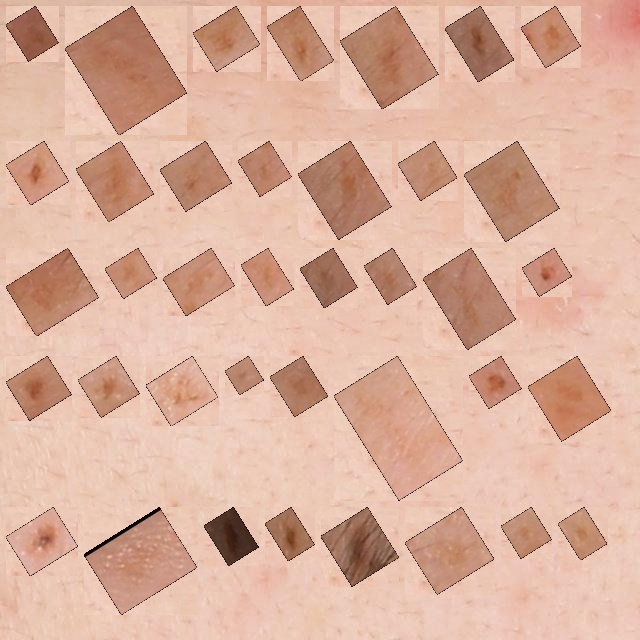melasma: (345, 367, 452, 489), (76, 17, 176, 124), (95, 518, 186, 603), (351, 17, 427, 98), (475, 152, 548, 230), (434, 259, 505, 338), (309, 152, 380, 228), (17, 259, 88, 325), (416, 518, 483, 583), (539, 367, 600, 430), (87, 152, 143, 211), (456, 17, 503, 71), (171, 152, 221, 200), (157, 367, 207, 415), (278, 17, 323, 70), (174, 259, 224, 304), (204, 17, 249, 60), (17, 367, 60, 409), (17, 152, 58, 194), (89, 367, 128, 406), (532, 17, 570, 57), (281, 367, 317, 406), (409, 152, 446, 189), (311, 259, 346, 297), (252, 259, 283, 295), (249, 152, 281, 185), (375, 259, 406, 293), (17, 17, 47, 50), (480, 367, 510, 397), (512, 518, 541, 547), (116, 259, 146, 287), (569, 518, 596, 549), (533, 259, 561, 285), (236, 367, 253, 384)
nevus: (332, 518, 388, 575), (17, 518, 67, 565), (215, 518, 248, 554), (276, 518, 304, 550)
